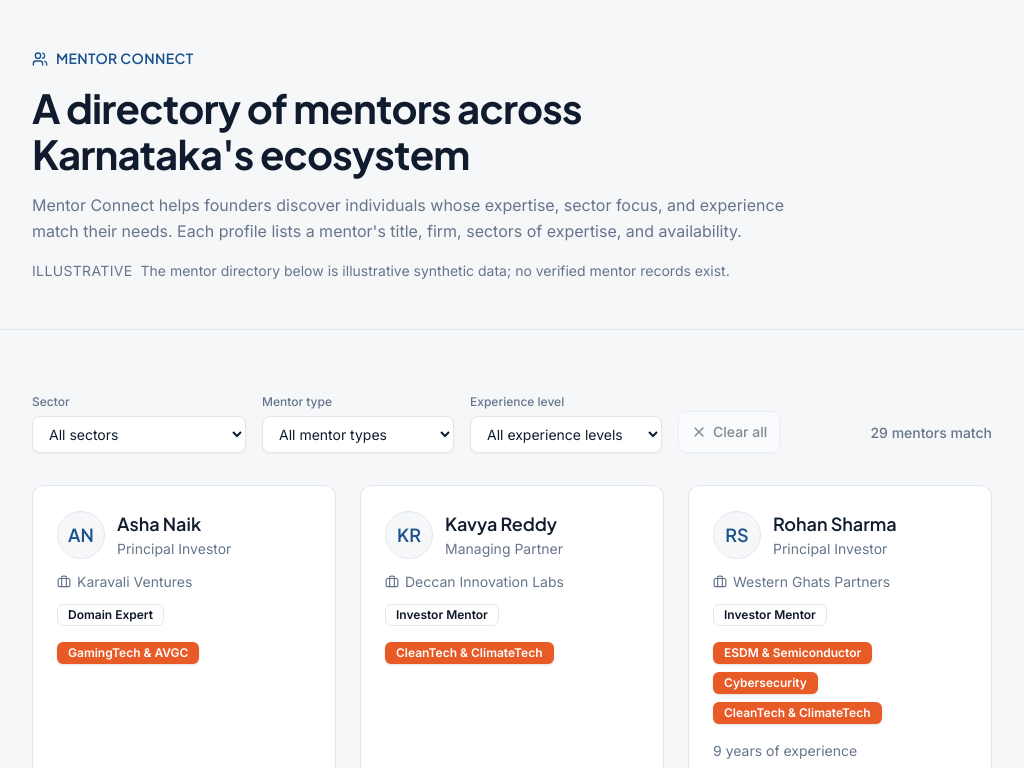
MentorsPage (Mentor Connect) › narrows the visible cards and updates the aria-live matching count when a filter is selected
Select "Domain Expert" in the dropdown labelled "Mentor type". click: (358, 435)
box: [262,416,454,453]
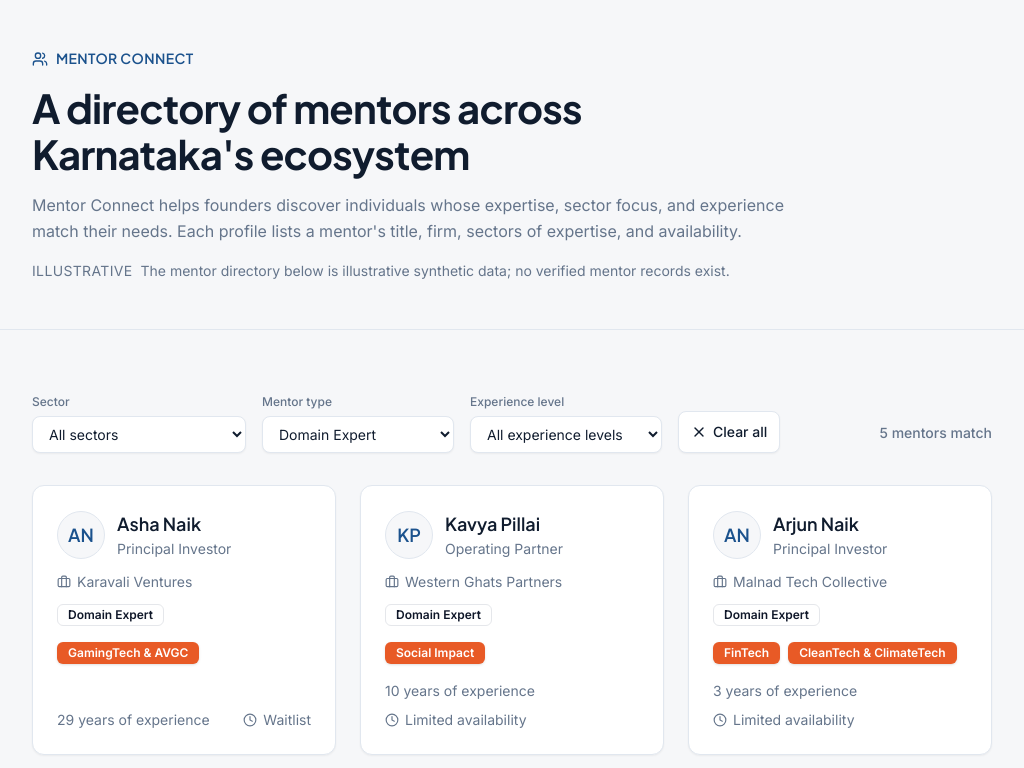
Result: the number of buttons named "Asha Naik — Domain Expert" is 5
